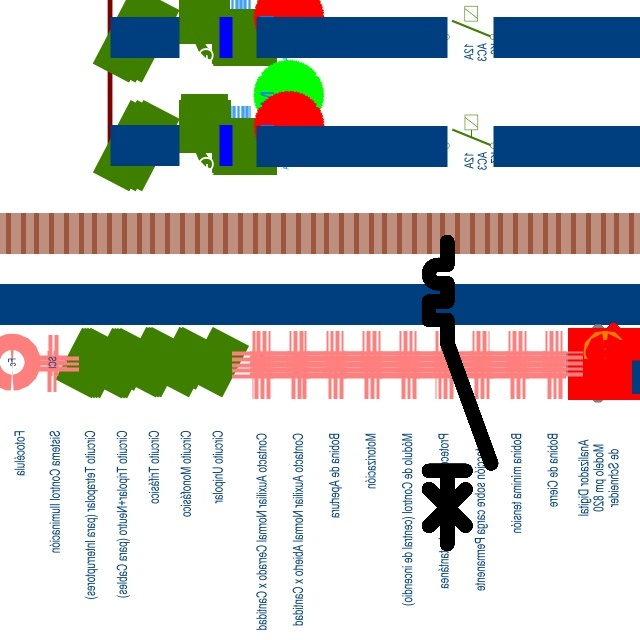interruptor_termomagnetico: (421, 234, 499, 552)
